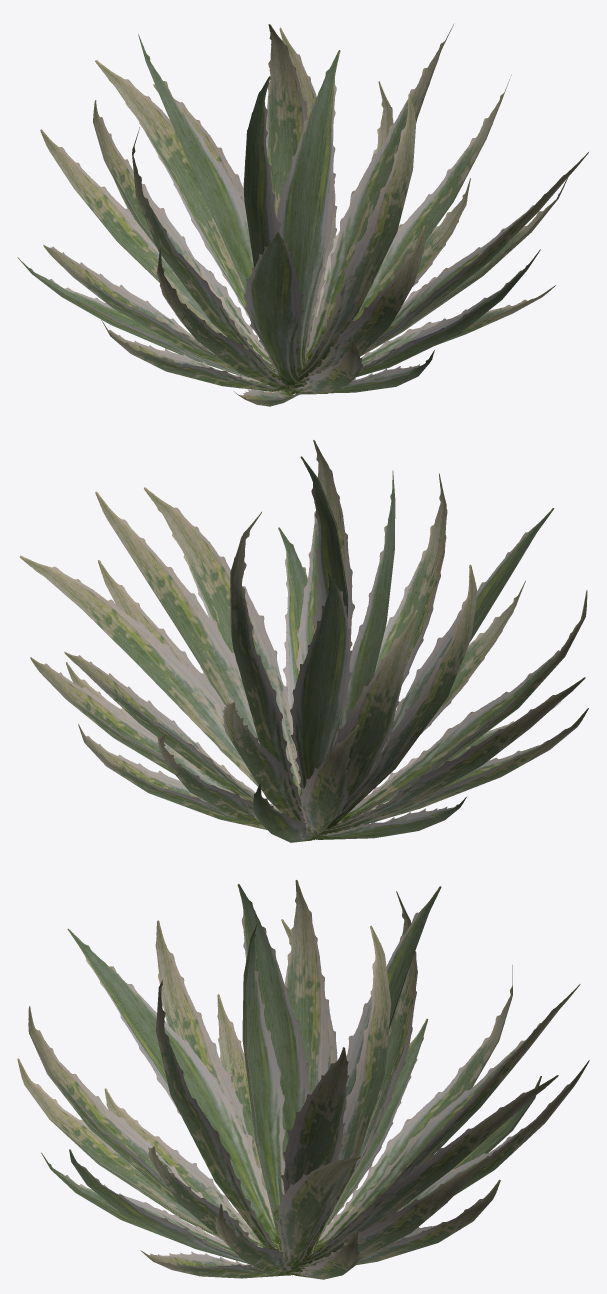
The model's file is shrub5.glb.
The picture shows the model from 3 angles, top to bottom: view 1: azimuth 30°, elevation 25°; view 2: azimuth 150°, elevation 25°; view 3: azimuth 270°, elevation 25°; orthographic projection. The views are drawn at different scales.
Parts seen in each view (by area): view 1: agave_2_agave_2Mat_0.122; view 2: agave_2_agave_2Mat_0.122; view 3: agave_2_agave_2Mat_0.122.
Part boxes in pixels (bbox=[...]): agave_2_agave_2Mat_0.122: bbox=[17, 23, 588, 406]; agave_2_agave_2Mat_0.122: bbox=[19, 440, 588, 842]; agave_2_agave_2Mat_0.122: bbox=[17, 880, 589, 1279].
Bounding box in the file's own units: 43.5 × 28.68 × 40.65.
1 material, 1 textured.
